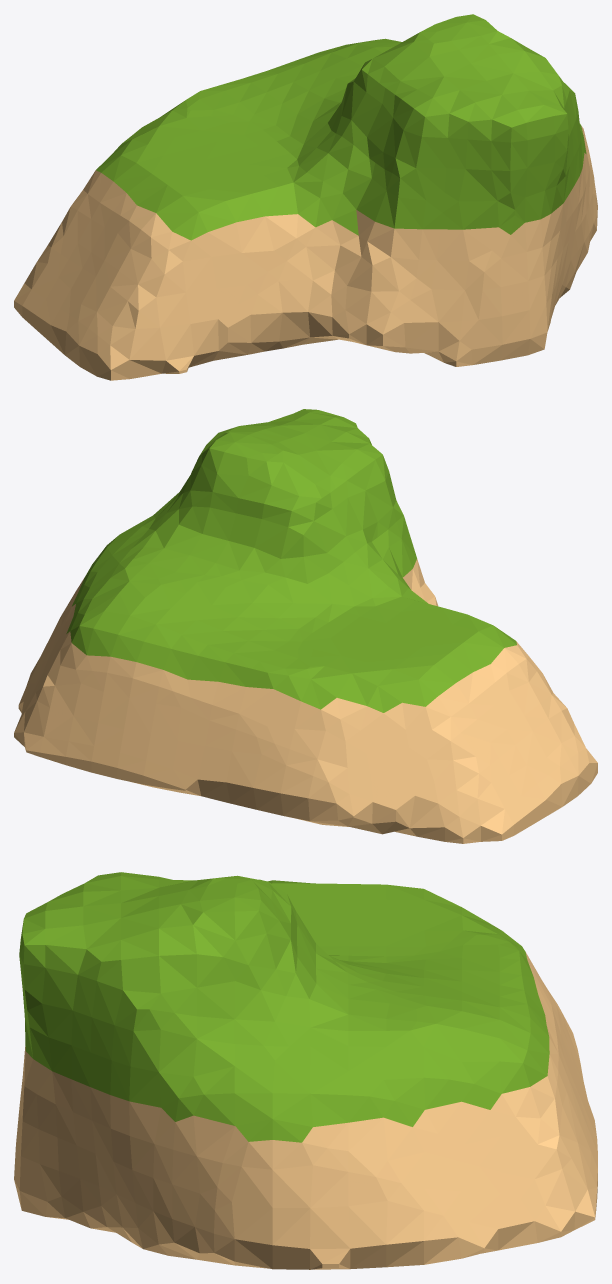
Rendered from Island-001.fbx.
The picture shows the model from 3 angles, top to bottom: view 1: azimuth 30°, elevation 25°; view 2: azimuth 150°, elevation 25°; view 3: azimuth 270°, elevation 25°; orthographic projection. The views are drawn at different scales.
Visible parts, largest first — view 1: Island.001; view 2: Island.001; view 3: Island.001.
Part boxes in pixels (x1=…): Island.001: x1=14, y1=14, x2=597, y2=380; Island.001: x1=14, y1=409, x2=597, y2=843; Island.001: x1=14, y1=872, x2=597, y2=1269.
Size of the model in its own units: 9540 by 4779 by 7586.
1 material, 1 textured.
